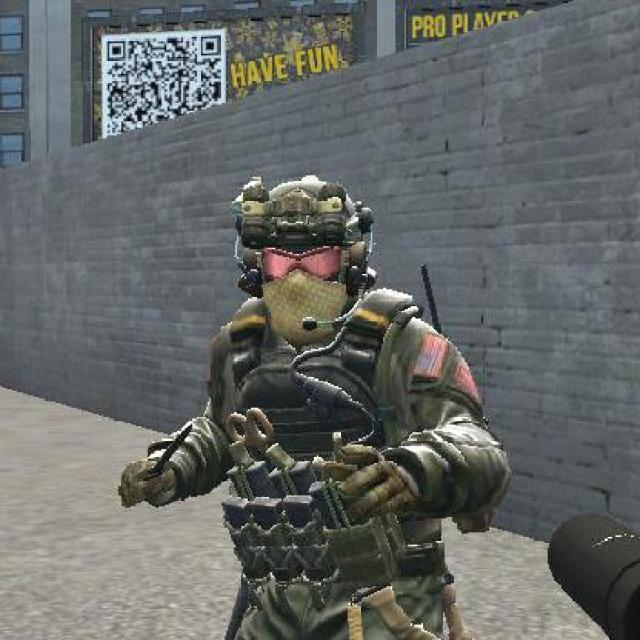CT: (114, 171, 514, 638)
CT_HEAD: (230, 172, 382, 343)
